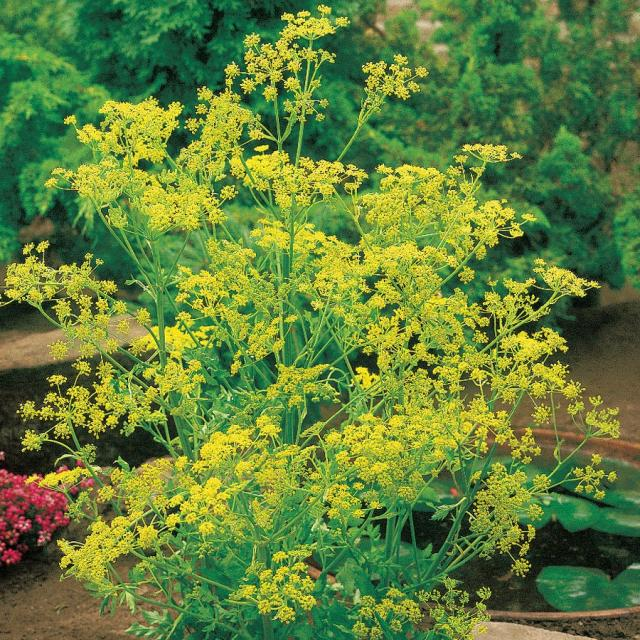Dill: (12, 16, 625, 630)
